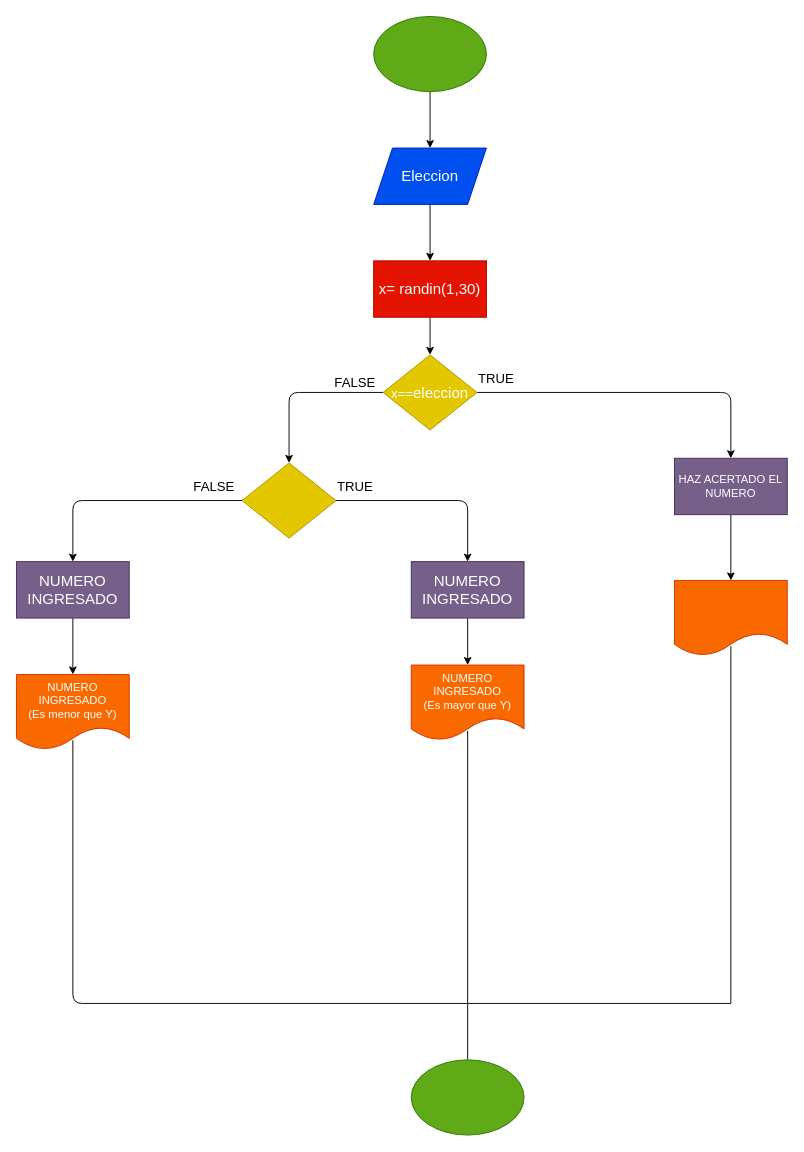
The diagram is 804 pixels wide and 1152 high, and some of its shapes have lost their labels. Each missing label, with the centre of its shape:
ACERTADO: point 730,618
FINAL: point 467,1097
INICIO: point 429,54
X>ELECCION: point 288,500
